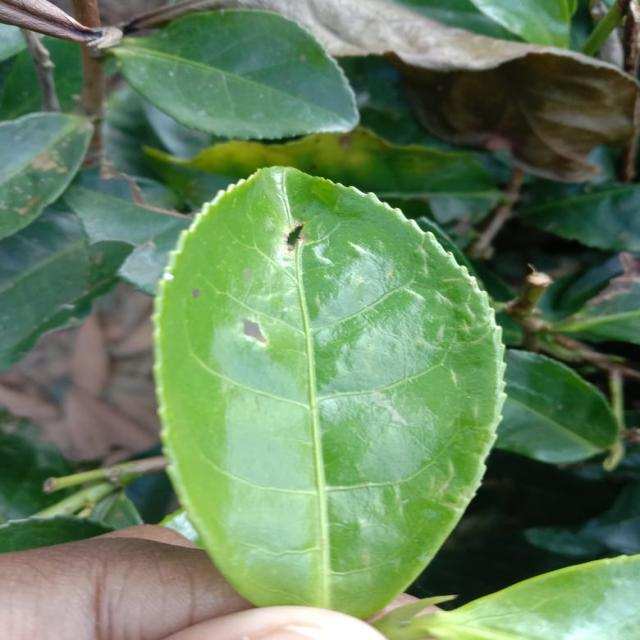Category B 2-4 days: (135, 161, 551, 631)
